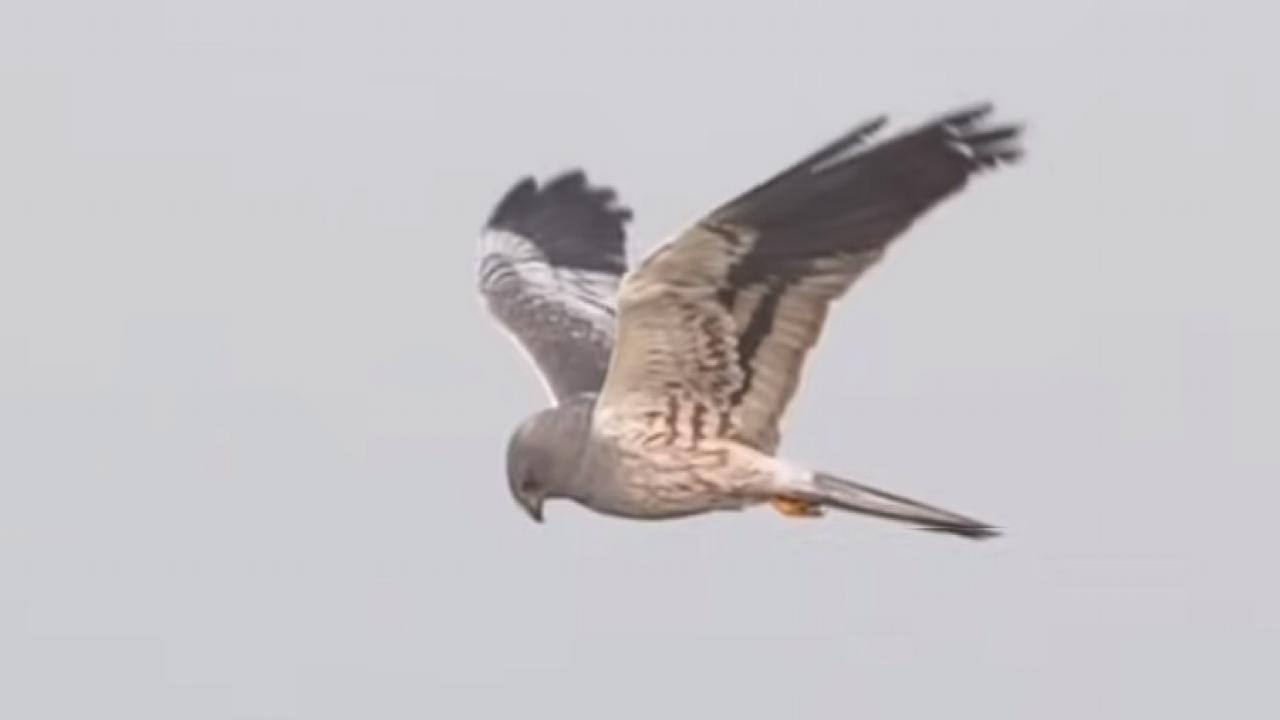Bird: (468, 86, 1035, 550)
